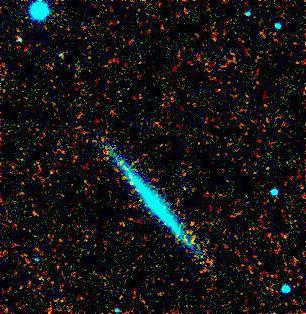star: (176, 211, 206, 241)
